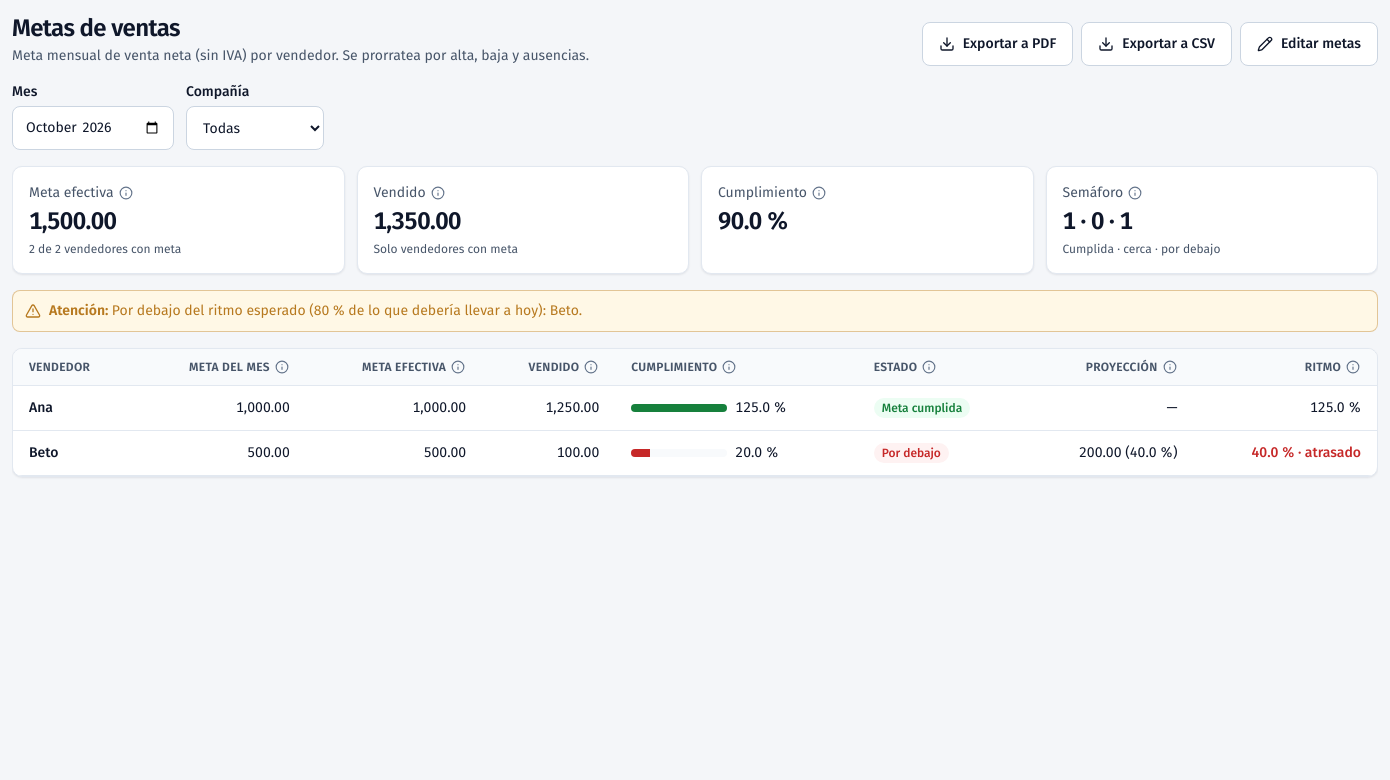
Test: metas de ventas › aplica sugerencias, permite ajustarlas y guarda marcando su origen
This screenshot has width=1390, height=780.
Click the button "Editar metas": (1309, 44) [1240,22,1378,66]
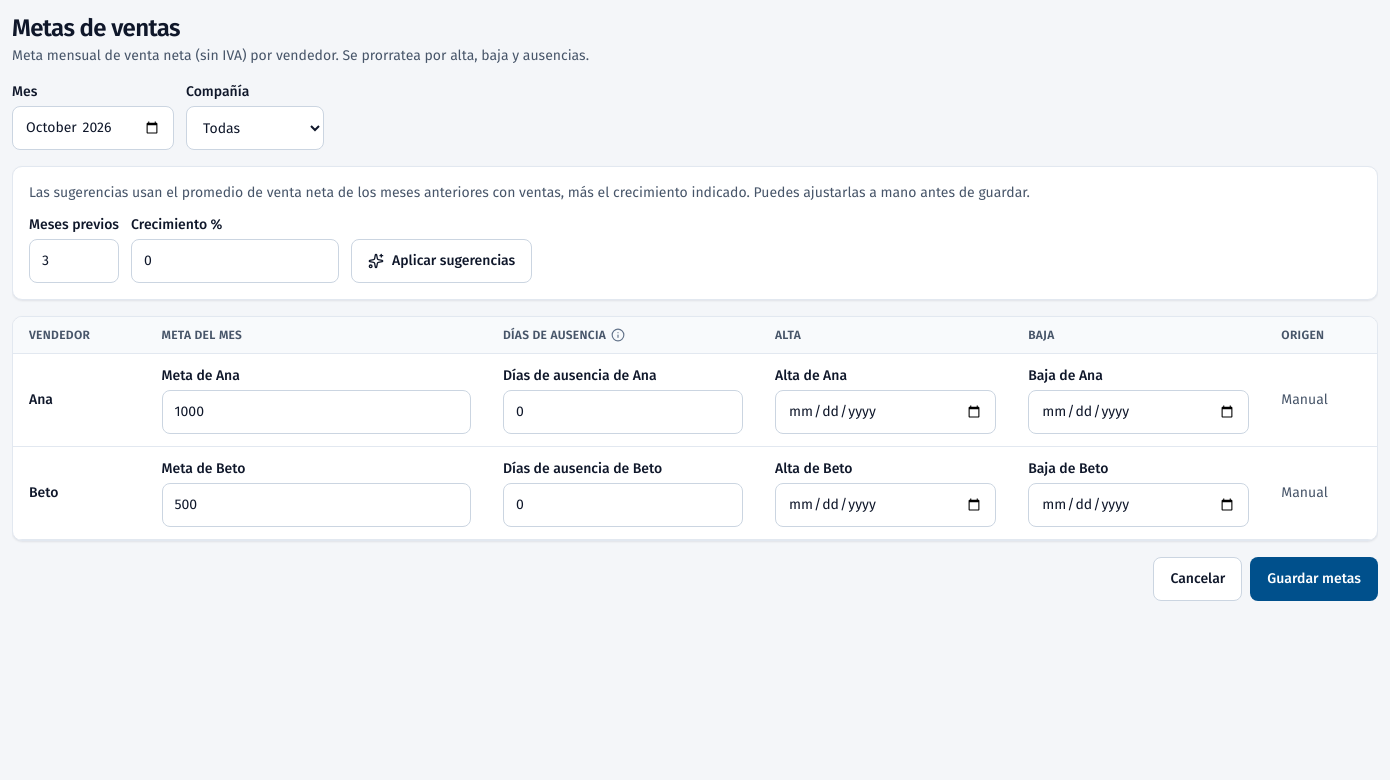
Click the button "Aplicar sugerencias": (442, 261) [351,239,532,283]
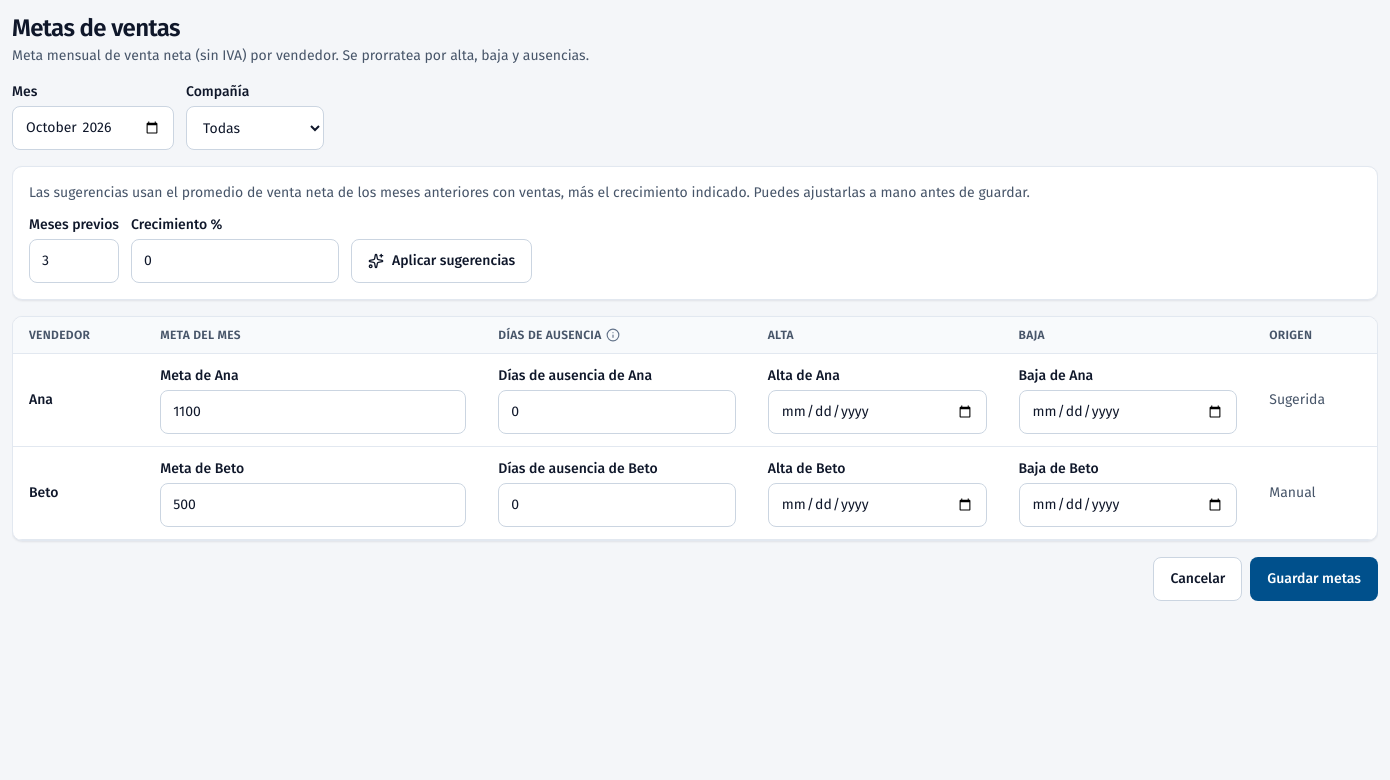
Check: the number field labelled "Meta de Beto" holds "500"
Check: the number field labelled "Meta de Ana" holds "1100", box [160,390,466,434]
Replace the text in the number field labelled "Meta de Beto" with "600": (313, 505) [160,483,466,527]
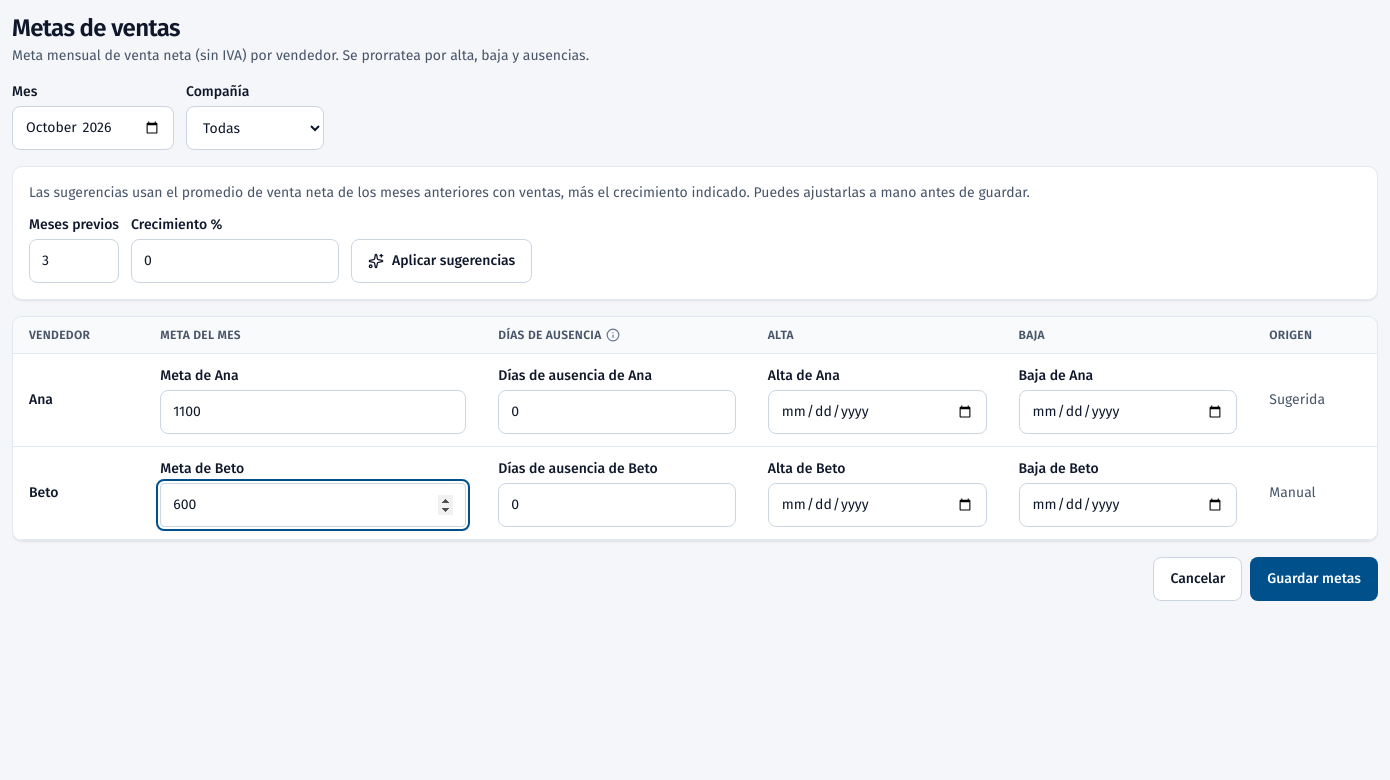
In the number field labelled "Días de ausencia de Beto": (617, 505) [498,483,736,527], type "2"
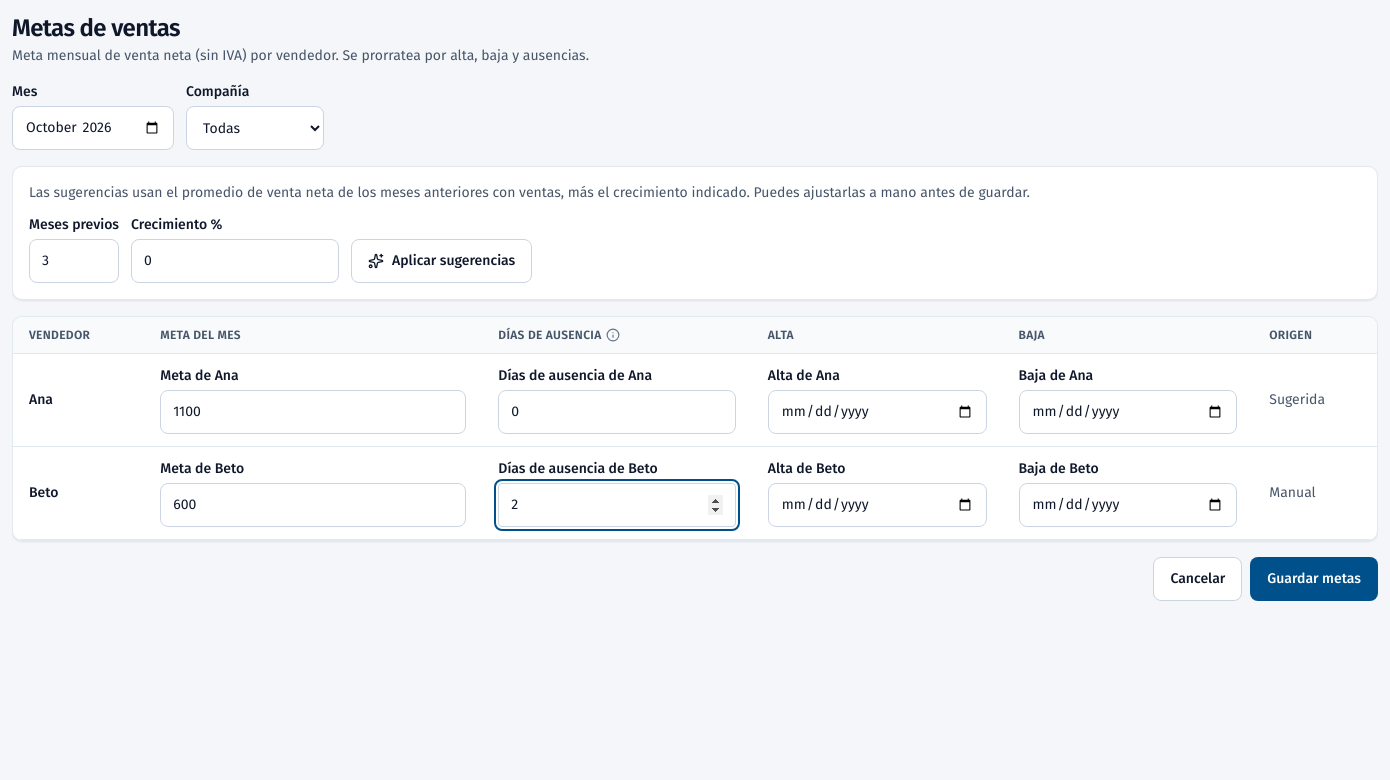
Click the button "Guardar metas": (1314, 579) [1250,557,1378,601]
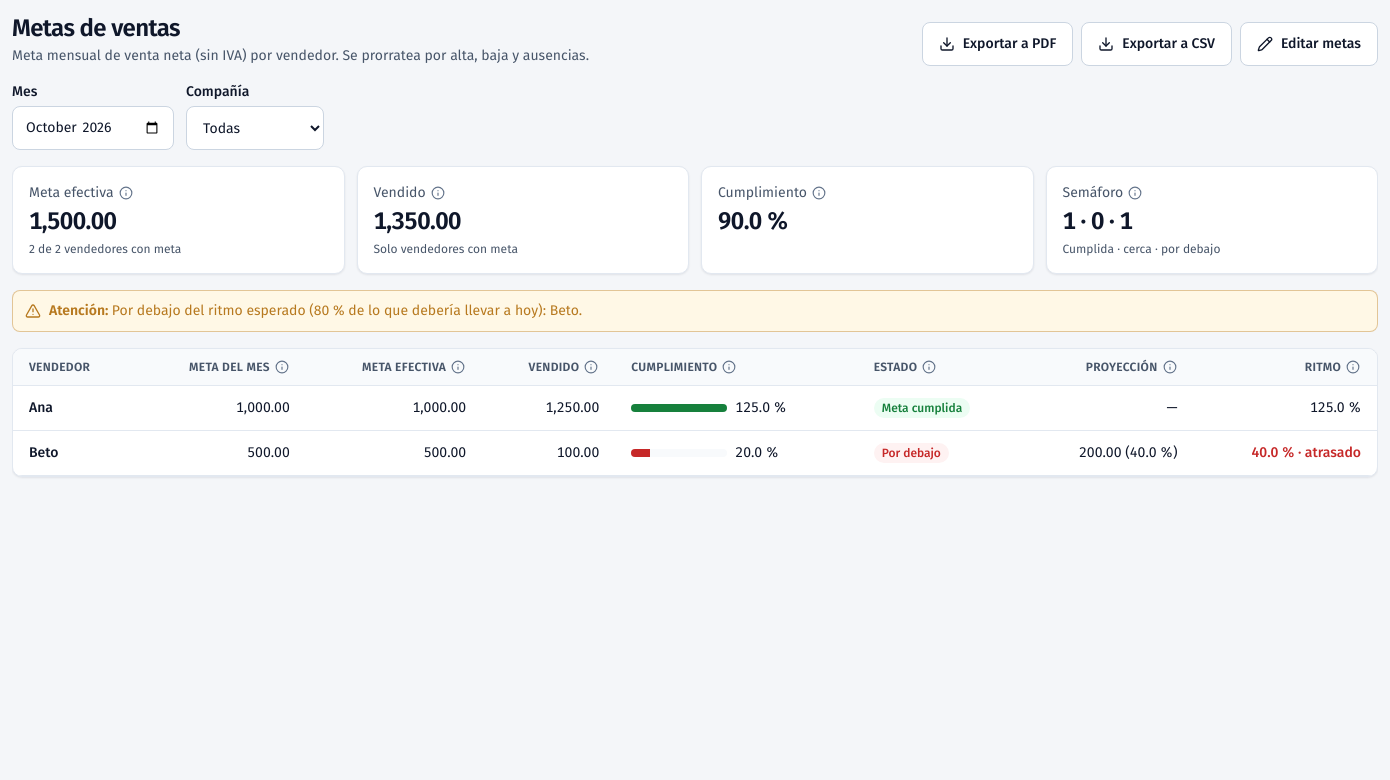
Check: the button "Editar metas" is shown, box [1240,22,1378,66]
